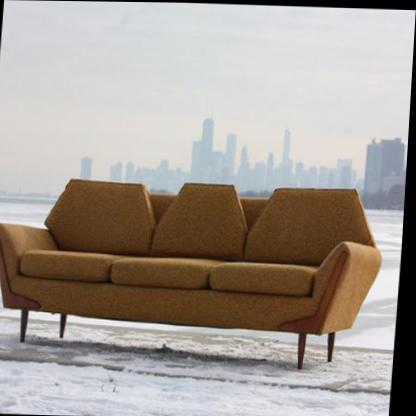Sofa: (0, 177, 389, 368)
